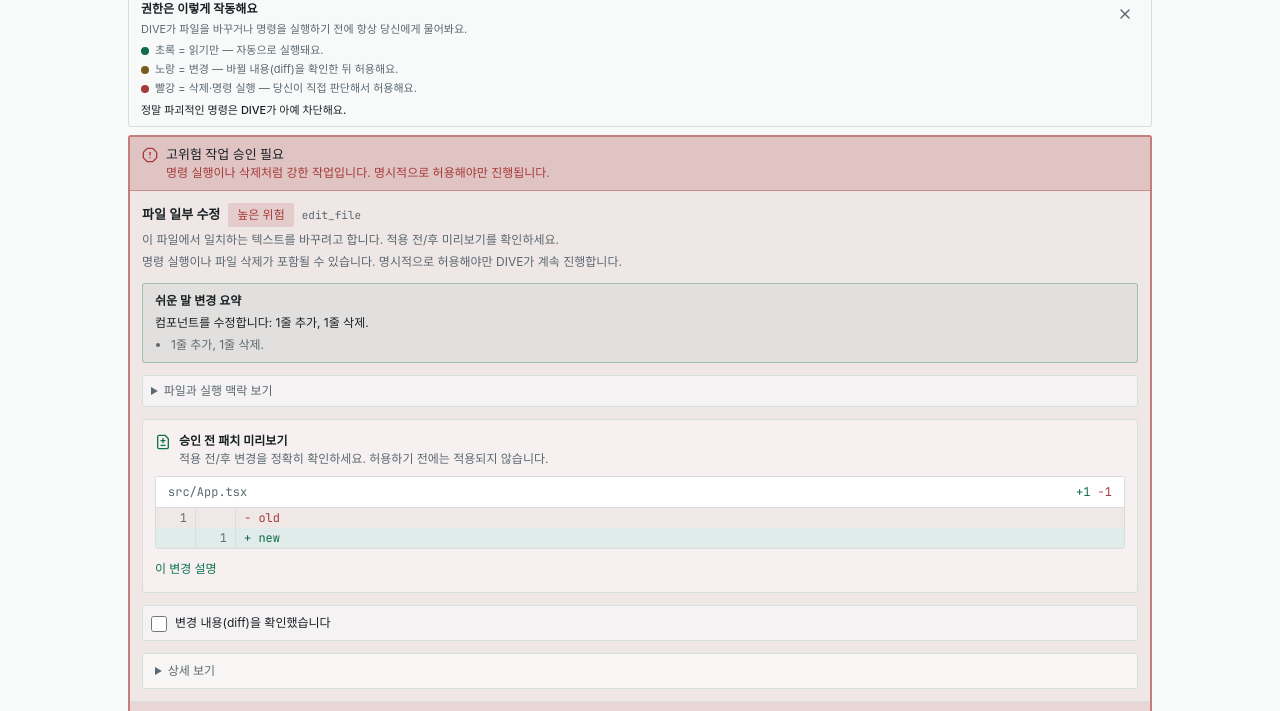
it: ToolActivity provocation permission gate › requires diff acknowledgment before approving a high-risk diff
The image size is (1280, 711).
What coordinates should you click on to do the following:
click the checkbox with test id "danger-diff-ack-checkbox"
I would click on:
 (159, 624)
Its box is [151,616,167,632].
(page scrolled)
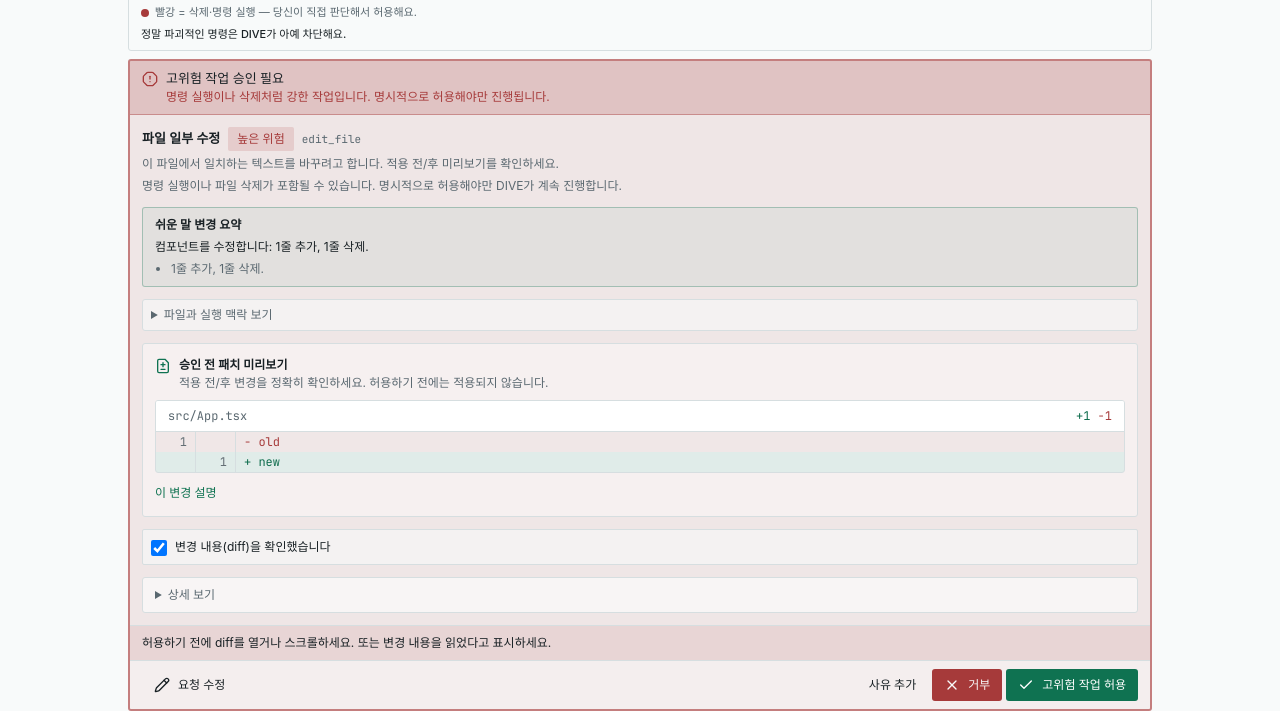
Now the checkbox with test id "danger-diff-ack-checkbox" is checked, box [151,540,167,556]
Now the button with test id "card-approve" is enabled, box [1006,668,1138,700]
